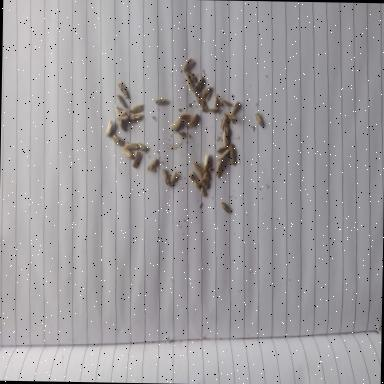pbw: (196, 93, 208, 115), (228, 143, 238, 167), (188, 170, 200, 189), (146, 158, 158, 176), (117, 81, 129, 99), (192, 161, 204, 178), (230, 100, 240, 120), (200, 86, 212, 102), (183, 57, 195, 73), (114, 92, 126, 108), (185, 74, 195, 93), (170, 168, 180, 186), (129, 102, 144, 114), (131, 150, 140, 169), (168, 118, 182, 130), (104, 119, 112, 140), (112, 134, 124, 148), (120, 146, 132, 160), (218, 148, 230, 162), (194, 76, 204, 92), (162, 169, 170, 189), (216, 158, 224, 178), (220, 201, 232, 214), (188, 114, 198, 129), (136, 141, 148, 153), (118, 115, 126, 133), (226, 112, 238, 124), (255, 112, 264, 128), (124, 142, 140, 150), (178, 113, 192, 122), (130, 114, 144, 123), (117, 114, 129, 124), (224, 124, 231, 141), (219, 114, 226, 131), (215, 146, 229, 154), (154, 98, 168, 106), (201, 170, 208, 186), (204, 152, 210, 170), (115, 104, 122, 118), (222, 133, 228, 148), (218, 100, 230, 106), (199, 187, 205, 198), (208, 108, 219, 114), (214, 94, 219, 107), (206, 167, 213, 173)
